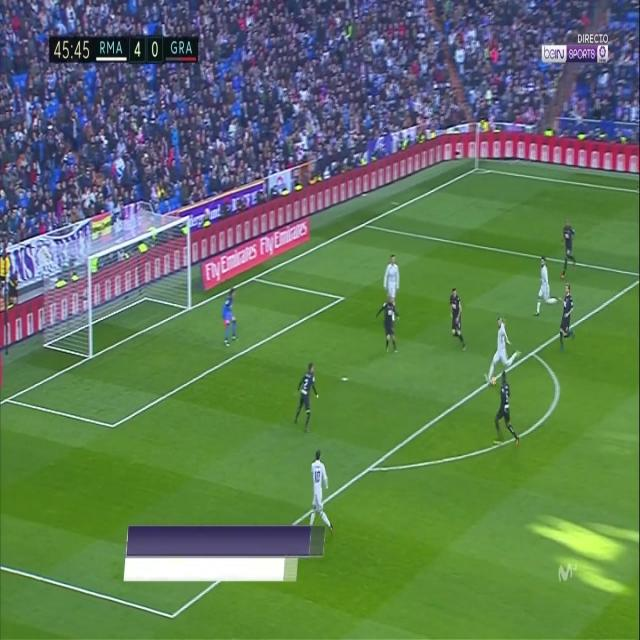Ball: (489, 372, 498, 388)
Goalkeeper: (221, 284, 239, 350)
Player: (482, 314, 522, 386), (494, 368, 521, 448), (308, 448, 332, 534), (531, 255, 562, 320), (294, 360, 320, 431), (376, 293, 401, 358), (448, 287, 468, 355), (558, 284, 574, 352), (561, 216, 577, 276), (382, 250, 400, 302)
